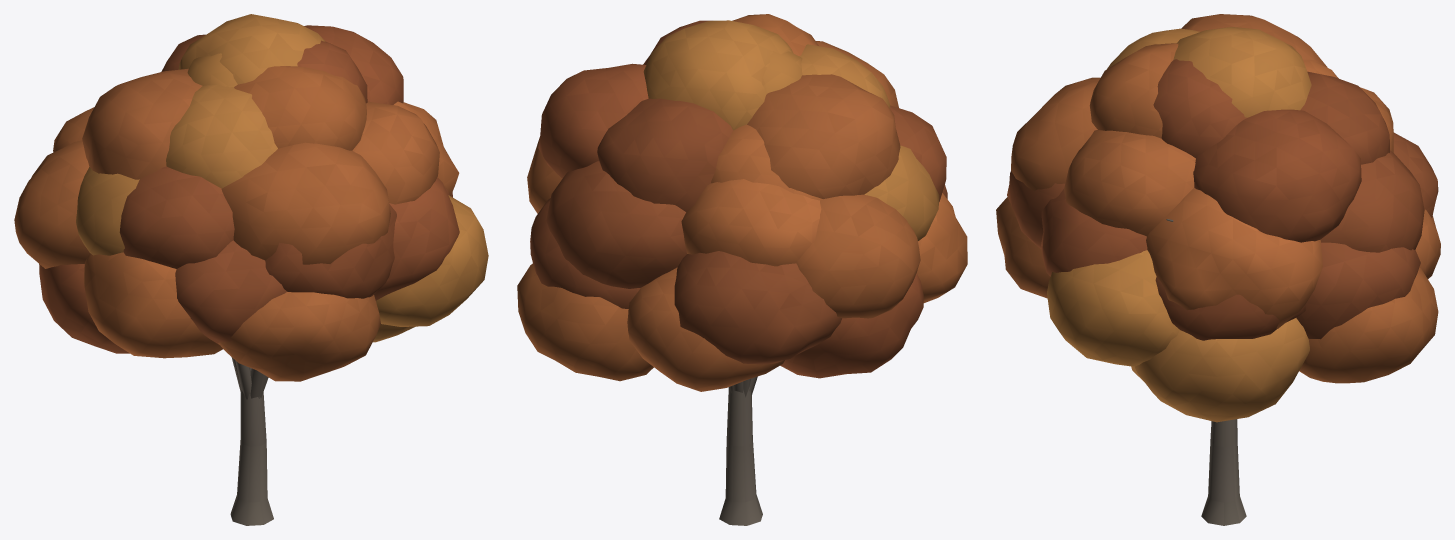
The model's file is nature_tree_zelkova_01.glb.
3 views of the same model, side by side, from view 1: azimuth 30°, elevation 25°; view 2: azimuth 150°, elevation 25°; view 3: azimuth 270°, elevation 25° (orthographic).
Visible parts, largest first — view 1: nature_tree_zelkova_01; view 2: nature_tree_zelkova_01; view 3: nature_tree_zelkova_01.
Boxes of the visible parts, bbox=[...] form: nature_tree_zelkova_01: bbox=[14, 14, 488, 525]; nature_tree_zelkova_01: bbox=[517, 14, 967, 525]; nature_tree_zelkova_01: bbox=[996, 14, 1440, 525].
Bounding box in the file's own units: 6.01 × 7.1 × 5.87.
